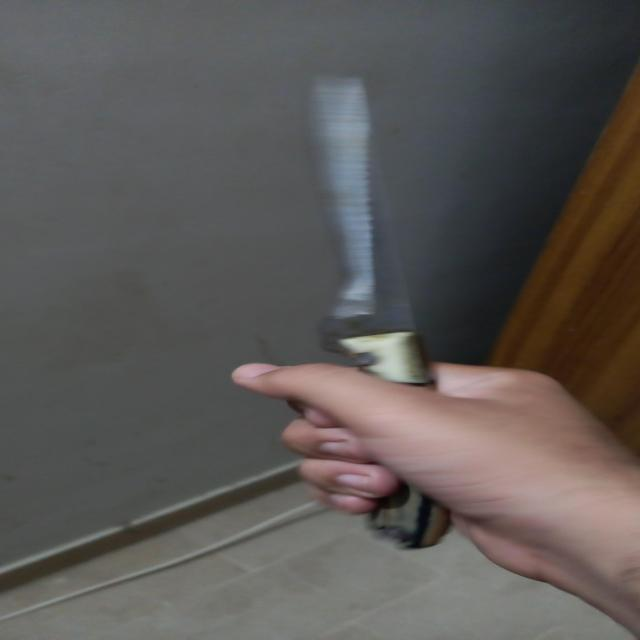Knife: (308, 72, 452, 548)
Person: (228, 358, 640, 640)
